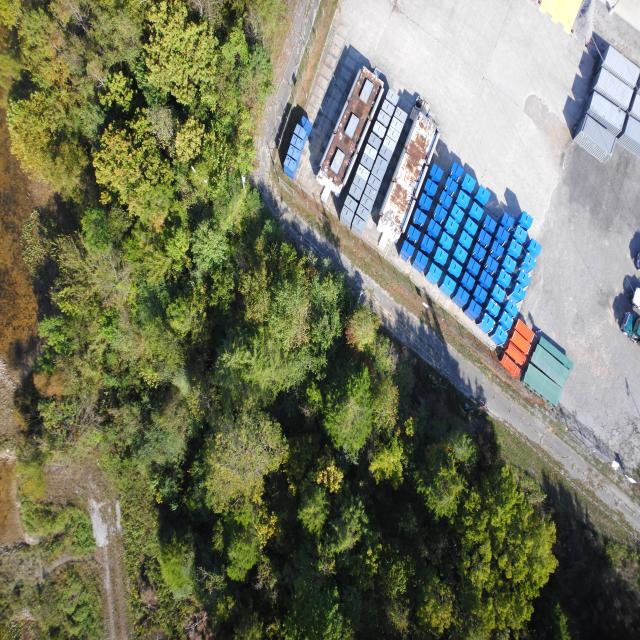Area of Interest: (12, 15, 555, 630)
